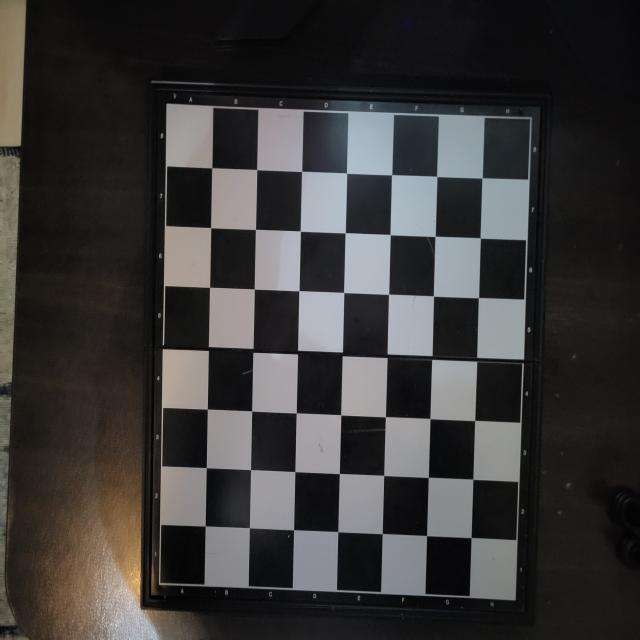chess-board: (146, 78, 538, 624)
